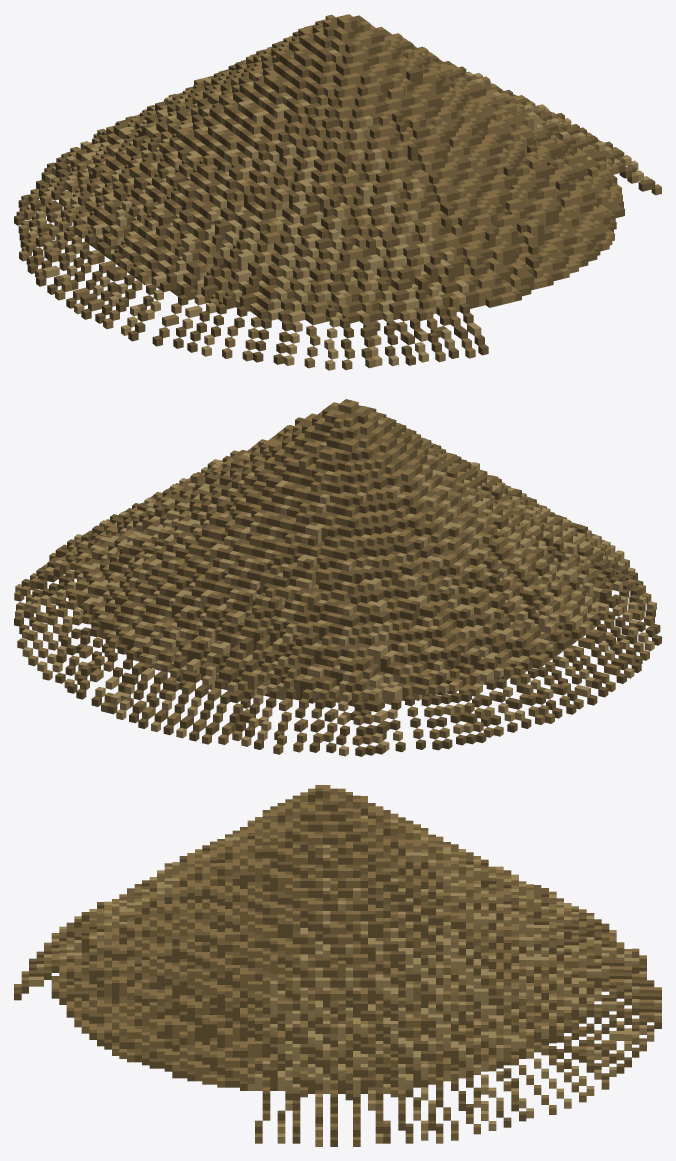
File: grassy_field-5.obj
3 renders of one model, top to bottom at view 1: azimuth 30°, elevation 25°; view 2: azimuth 150°, elevation 25°; view 3: azimuth 270°, elevation 25°, orthographic. The views are drawn at different scales.
Bounding box in the file's own units: 8.7 × 3.2 × 8.6.
1 material, 1 textured.
